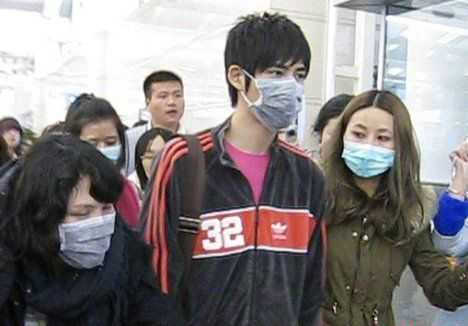face: (250, 50, 308, 125), (152, 82, 185, 122), (3, 127, 22, 146)
face_mask: (56, 183, 117, 267), (342, 109, 396, 175), (82, 123, 120, 166)
